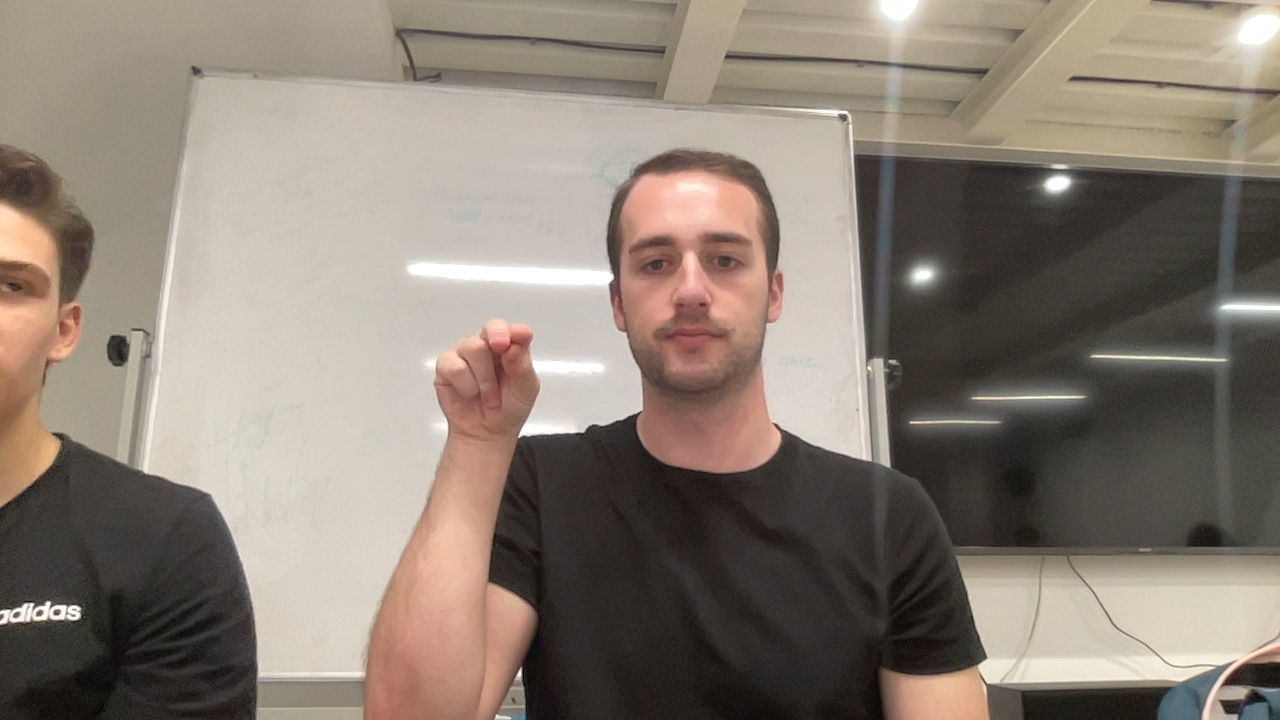No: (428, 316, 545, 439)
